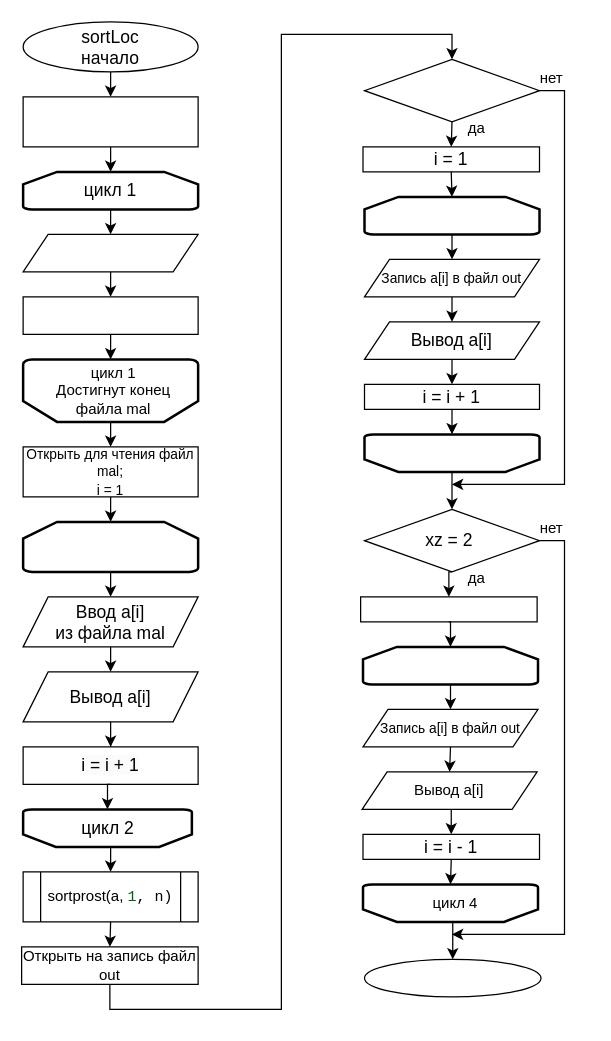
This 611x1041 diagram has some shape labels left out. The shapes that lost their labels are listed below. From the top down, each one's box as (x1, y1, x2, y2) in pixels, then its label:
(363, 58, 540, 122): xz = 1
(22, 96, 198, 147): Открыть для чтения файл mal; n = 0
(363, 195, 540, 235): цикл 3 i = n
(22, 233, 198, 272): Ввод x из файла mal
(22, 296, 198, 334): n = n + 1
(363, 432, 540, 472): цикл 3
(21, 520, 199, 572): цикл 2 i = n
(359, 596, 537, 622): i = n
(361, 645, 539, 685): цикл 4 i = 1
(363, 958, 541, 997): sortLoc конец
